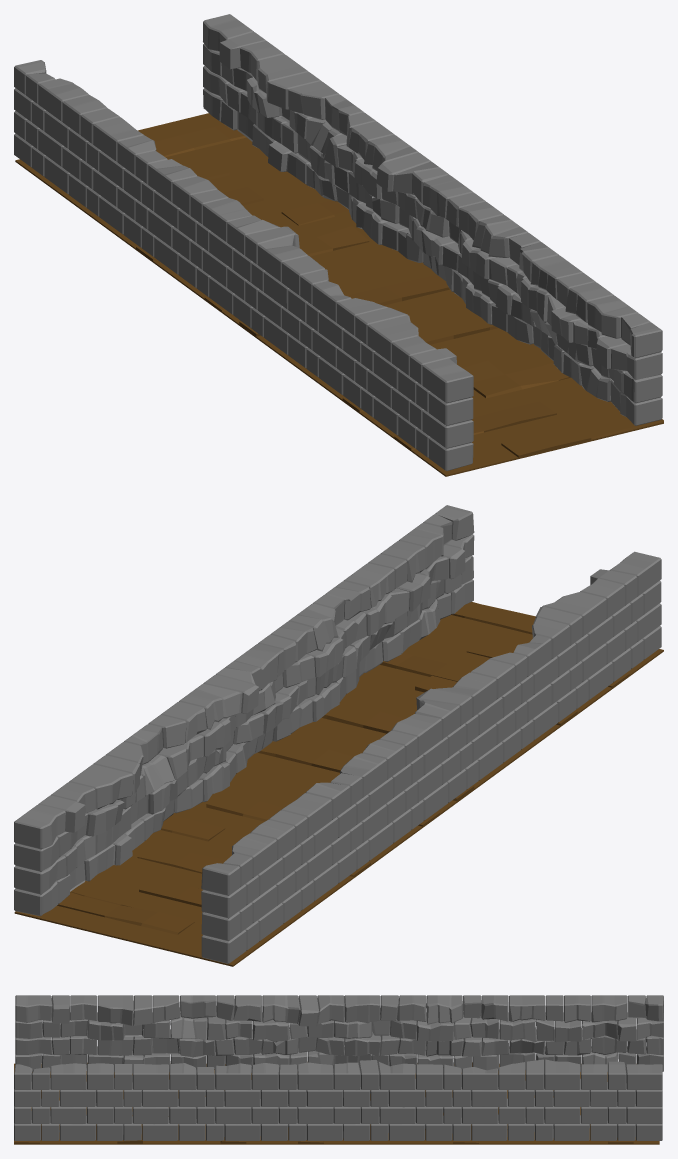
Rendered from maze.fbx.
The picture shows the model from 3 angles, top to bottom: view 1: azimuth 30°, elevation 25°; view 2: azimuth 150°, elevation 25°; view 3: azimuth 270°, elevation 25°; orthographic projection. The views are drawn at different scales.
Visible parts, largest first — view 1: Wall; view 2: Wall; view 3: Wall.
Boxes of the visible parts, x1=… form: Wall: x1=14, y1=14, x2=663, y2=476; Wall: x1=14, y1=505, x2=663, y2=966; Wall: x1=14, y1=995, x2=663, y2=1144.
Bounding box in the file's own units: 1550 × 653 × 5334.
